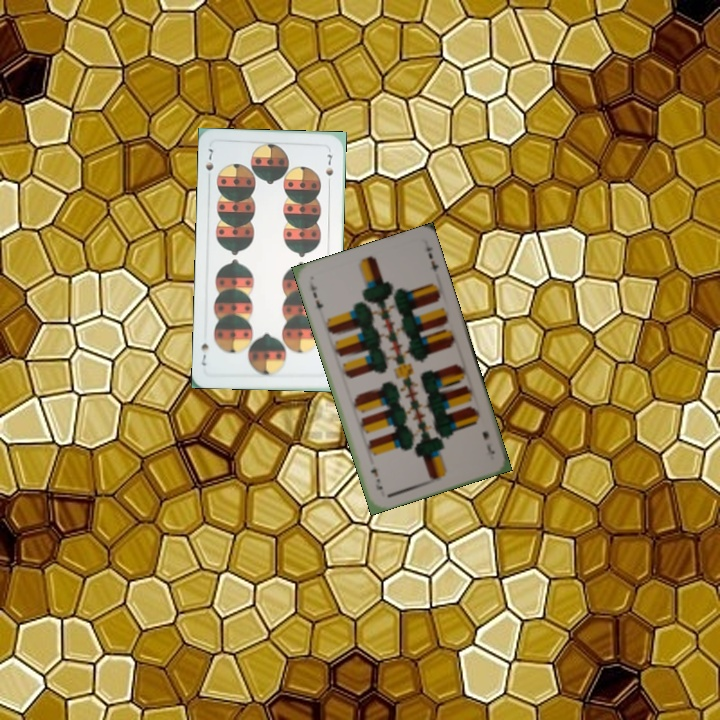E7: (306, 277, 326, 311), (478, 427, 497, 457)
S7: (201, 145, 216, 174)
